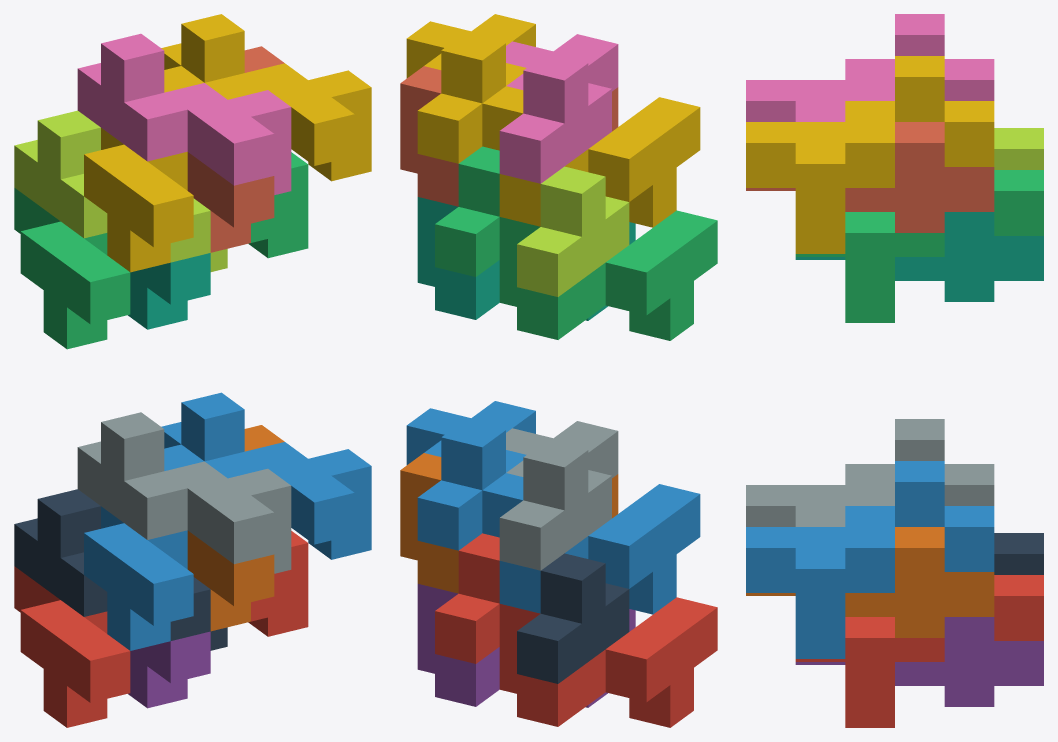
File: tiling.obj
3 views of the same model, side by side, from view 1: azimuth 30°, elevation 25°; view 2: azimuth 150°, elevation 25°; view 3: azimuth 270°, elevation 25° (orthographic). The views are drawn at different scales.
Parts seen in each view (by area): view 1: copy_2_domain_2, copy_2_domain_4, copy_2_domain_8, copy_2_domain_6, copy_1_domain_4, copy_1_domain_2, copy_1_domain_1, copy_1_domain_3, copy_2_domain_3, copy_2_domain_1, copy_1_domain_6, copy_1_domain_8 (+4 smaller); view 2: copy_1_domain_1, copy_1_domain_3, copy_1_domain_4, copy_1_domain_2, copy_2_domain_4, copy_2_domain_2, copy_2_domain_8, copy_2_domain_6, copy_2_domain_3, copy_2_domain_1, copy_2_domain_7, copy_2_domain_5 (+4 smaller); view 3: copy_2_domain_6, copy_2_domain_8, copy_2_domain_2, copy_2_domain_4, copy_2_domain_5, copy_2_domain_7, copy_1_domain_6, copy_1_domain_8, copy_1_domain_5, copy_1_domain_7, copy_2_domain_1, copy_2_domain_3.
Boxes of the visible parts, <box> form: copy_2_domain_2: <box>77,412,291,573</box>; copy_2_domain_4: <box>77,33,291,194</box>; copy_2_domain_8: <box>161,14,371,181</box>; copy_2_domain_6: <box>161,392,371,559</box>; copy_1_domain_4: <box>84,66,204,272</box>; copy_1_domain_2: <box>84,444,204,650</box>; copy_1_domain_1: <box>14,566,130,727</box>; copy_1_domain_3: <box>14,188,130,349</box>; copy_2_domain_3: <box>14,110,227,271</box>; copy_2_domain_1: <box>14,489,227,650</box>; copy_1_domain_6: <box>187,425,284,631</box>; copy_1_domain_8: <box>187,46,284,252</box>; copy_1_domain_1: <box>499,597,717,727</box>; copy_1_domain_3: <box>499,210,717,340</box>; copy_1_domain_4: <box>482,86,700,227</box>; copy_1_domain_2: <box>482,473,700,614</box>; copy_2_domain_4: <box>499,34,618,183</box>; copy_2_domain_2: <box>499,421,618,570</box>; copy_2_domain_8: <box>406,14,535,163</box>; copy_2_domain_6: <box>406,401,535,550</box>; copy_2_domain_3: <box>517,166,629,296</box>; copy_2_domain_1: <box>517,553,629,683</box>; copy_2_domain_7: <box>435,146,499,276</box>; copy_2_domain_5: <box>435,533,499,663</box>; copy_2_domain_6: <box>746,461,994,658</box>; copy_2_domain_8: <box>746,56,994,253</box>; copy_2_domain_2: <box>746,419,994,526</box>; copy_2_domain_4: <box>746,14,994,121</box>; copy_2_domain_5: <box>795,575,1043,727</box>; copy_2_domain_7: <box>795,170,1043,322</box>; copy_1_domain_6: <box>746,527,994,637</box>; copy_1_domain_8: <box>746,122,994,232</box>; copy_1_domain_5: <box>795,617,1043,706</box>; copy_1_domain_7: <box>795,212,1043,301</box>; copy_2_domain_1: <box>994,533,1043,574</box>; copy_2_domain_3: <box>994,128,1043,169</box>.
Size of the model in its own units: 7 by 15 by 6.
